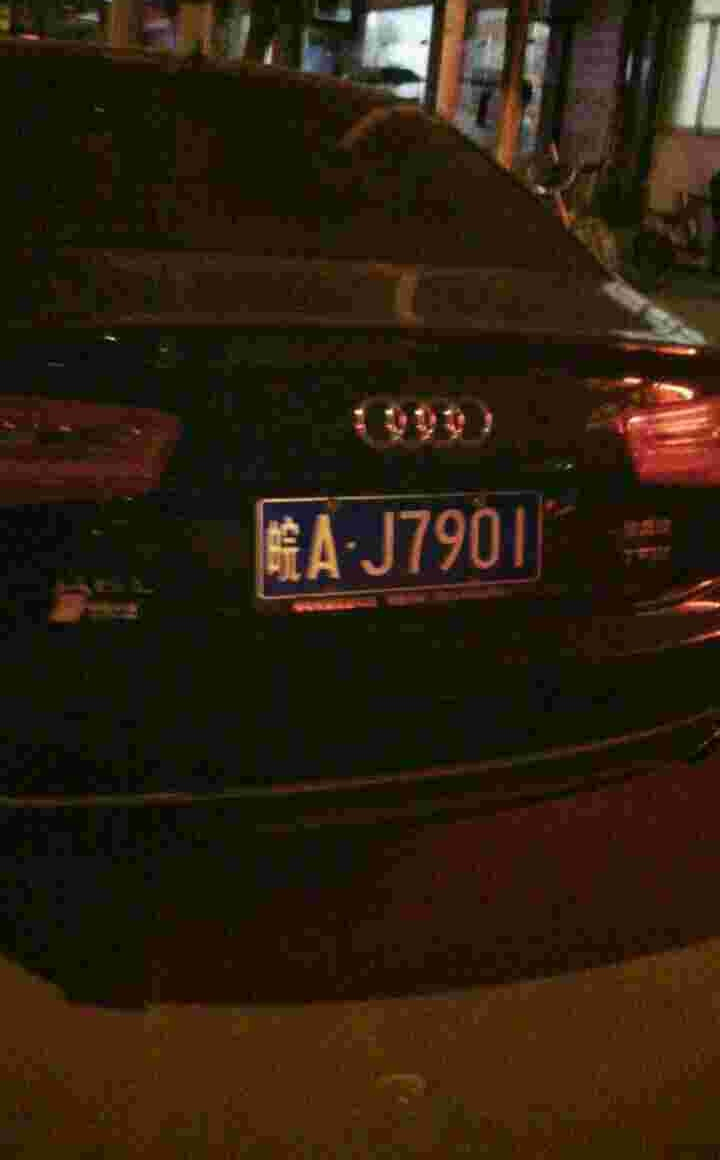license_plate: (275, 498, 559, 585)
